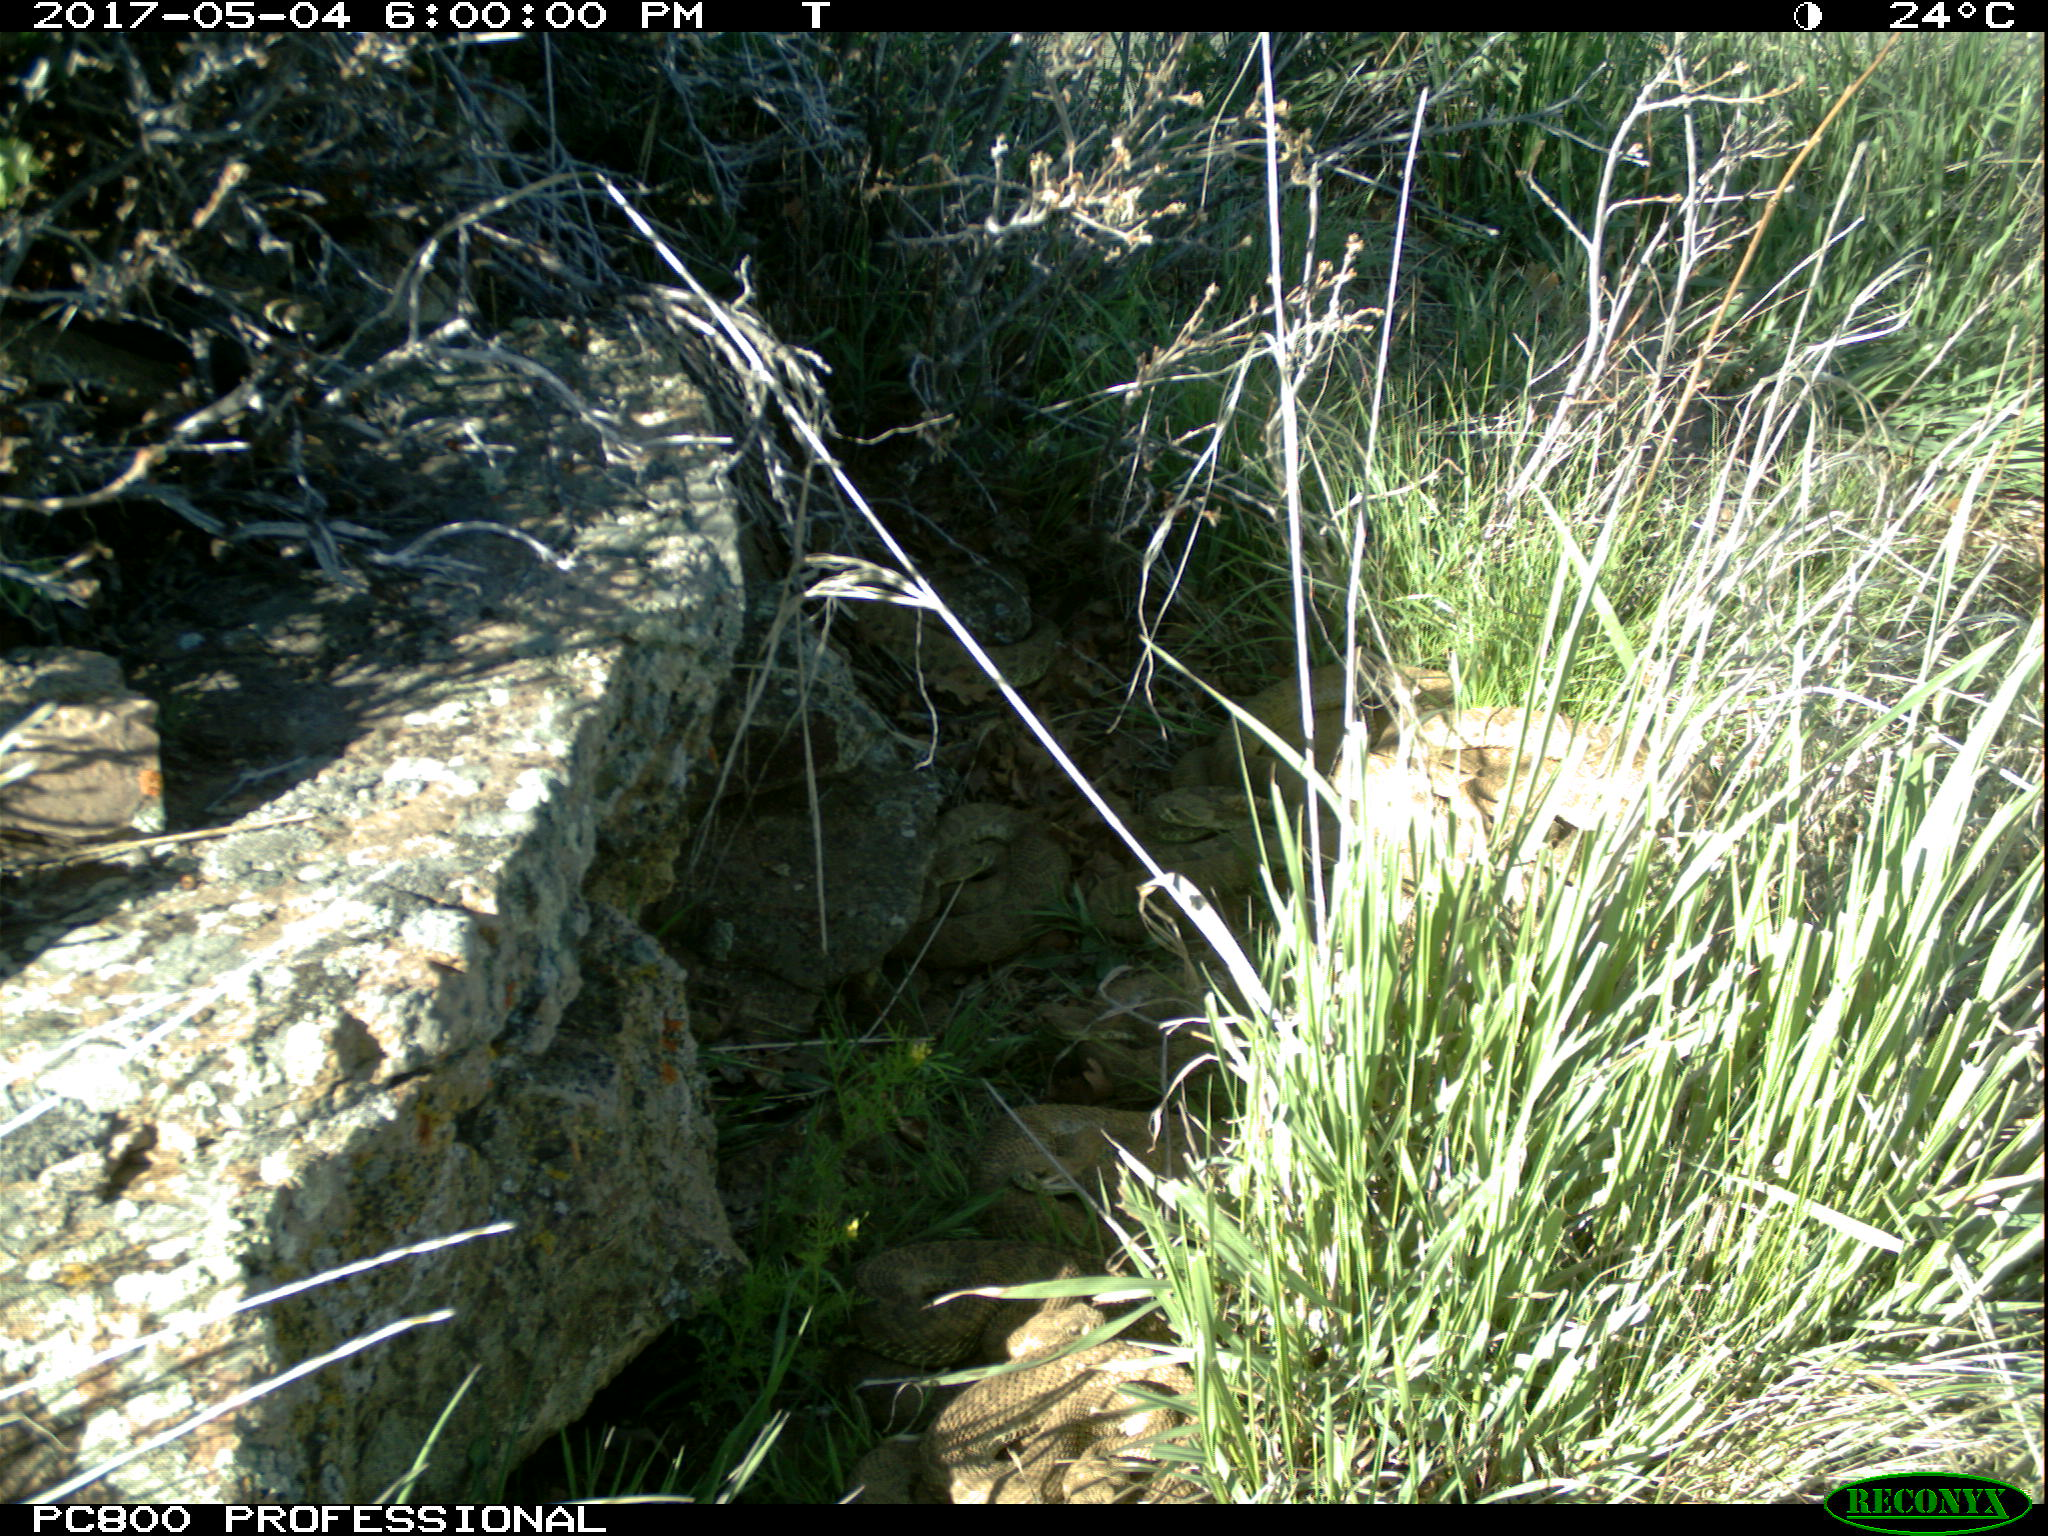snake: (851, 1238, 1219, 1505), (1143, 650, 1369, 850), (963, 1096, 1240, 1247), (913, 783, 1084, 966), (847, 603, 1069, 699)
